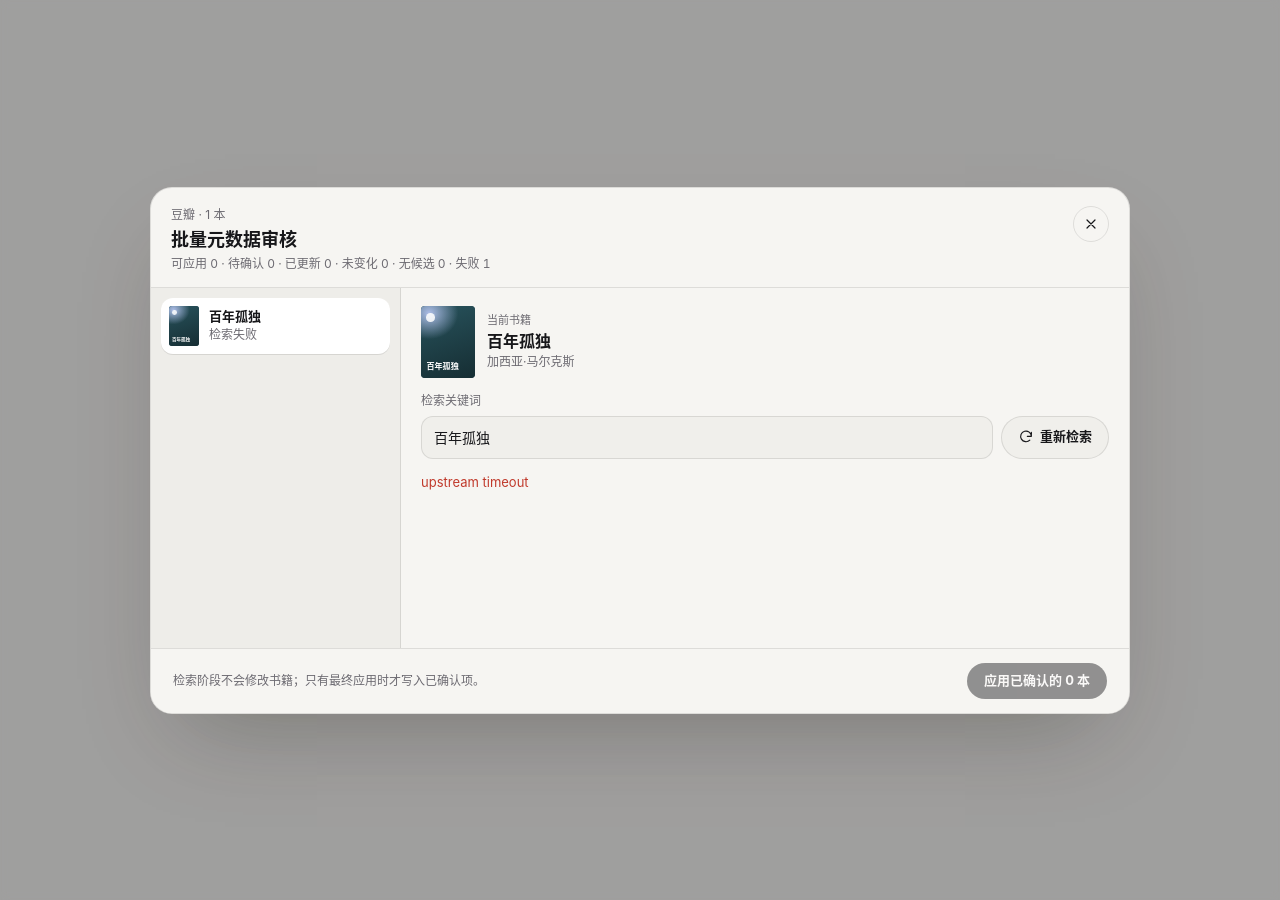
BatchMetadataReviewModal › keeps a failed book reviewable and supports retrying with an edited keyword
Replace the text in the field with test id "retry-keyword" with "百年孤独 马尔克斯": (707, 437) [421,416,993,458]
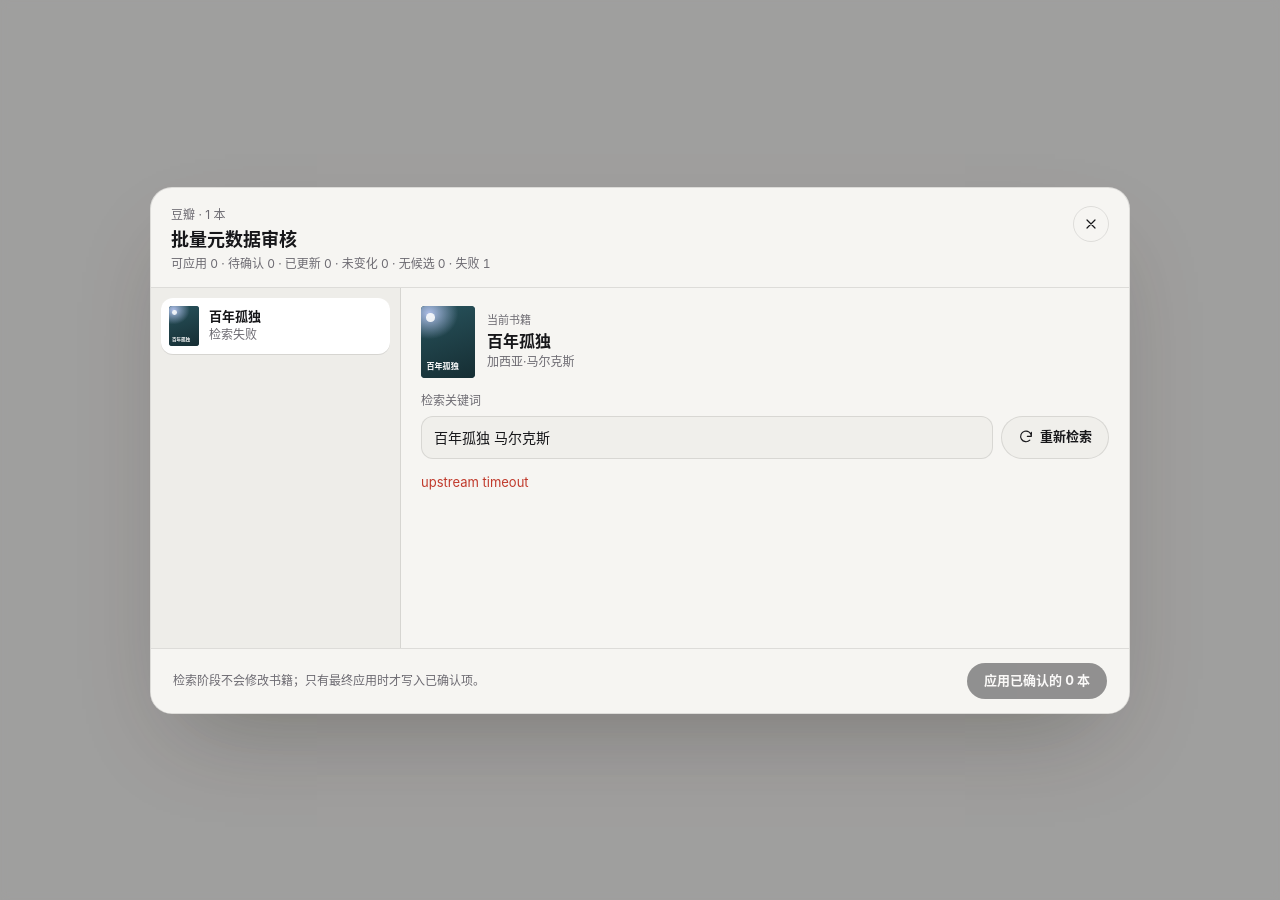
Click the button with test id "retry-candidate-search": (1055, 437) [1001,416,1109,458]
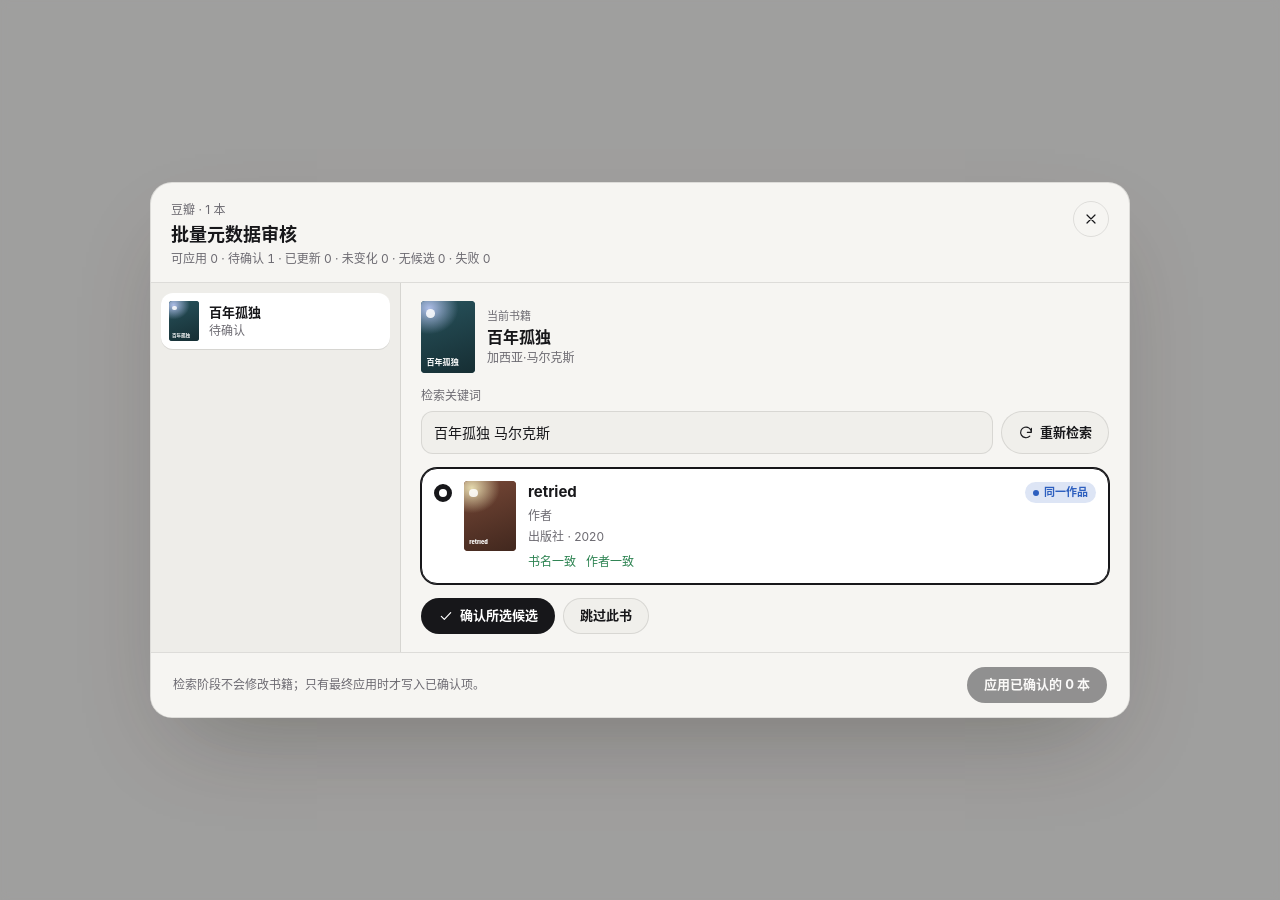
expect the text with test id "batch-metadata-summary" shows "待确认 1": met, box [171,251,490,266]
